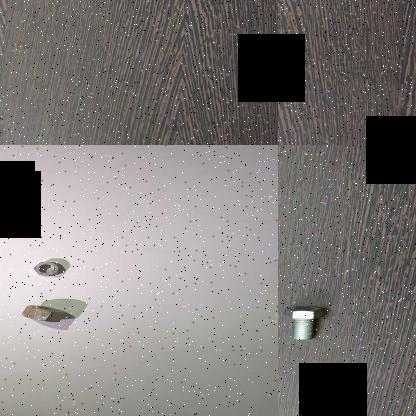Bolts: (278, 302, 329, 342), (278, 47, 294, 79)
NUTS: (13, 304, 70, 324), (29, 260, 69, 277)
